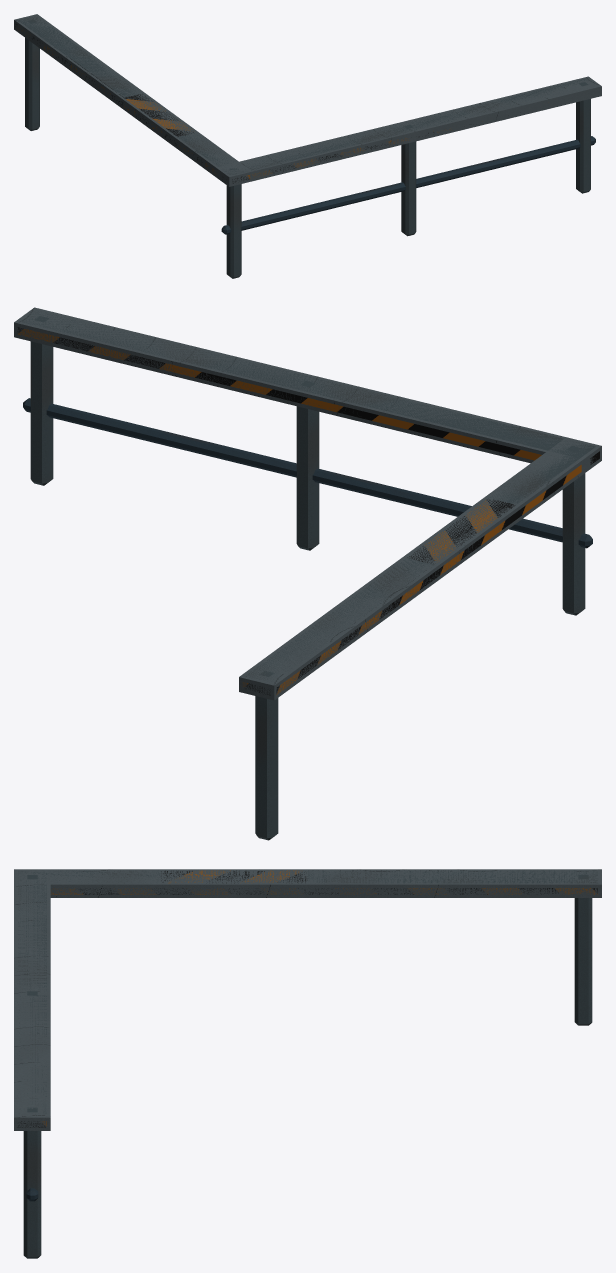
The model's file is Platform_RailCorner.fbx.
3 views of the same model, one above another, from view 1: azimuth 30°, elevation 25°; view 2: azimuth 150°, elevation 25°; view 3: azimuth 270°, elevation 25° (orthographic). The views are drawn at different scales.
Visible parts, largest first — view 1: ENV_Foundry_Platform_RailCorner_LOD0, COL_Foundry_Platform_RailCorner_00_Both, COL_Foundry_Platform_RailCorner_01_Both; view 2: ENV_Foundry_Platform_RailCorner_LOD0, COL_Foundry_Platform_RailCorner_00_Both, COL_Foundry_Platform_RailCorner_01_Both; view 3: COL_Foundry_Platform_RailCorner_01_Both, ENV_Foundry_Platform_RailCorner_LOD0, COL_Foundry_Platform_RailCorner_00_Both.
Part boxes in pixels (x1,y1,x2,y2): ENV_Foundry_Platform_RailCorner_LOD0: (15, 15, 595, 278); COL_Foundry_Platform_RailCorner_00_Both: (215, 76, 601, 186); COL_Foundry_Platform_RailCorner_01_Both: (14, 14, 252, 186); ENV_Foundry_Platform_RailCorner_LOD0: (17, 310, 599, 840); COL_Foundry_Platform_RailCorner_00_Both: (14, 307, 601, 475); COL_Foundry_Platform_RailCorner_01_Both: (239, 437, 601, 700); COL_Foundry_Platform_RailCorner_01_Both: (14, 869, 601, 897); ENV_Foundry_Platform_RailCorner_LOD0: (17, 870, 597, 1258); COL_Foundry_Platform_RailCorner_00_Both: (14, 869, 50, 1130).
Size of what is drawn, in the model's own units: 4 by 1.1 by 4.
